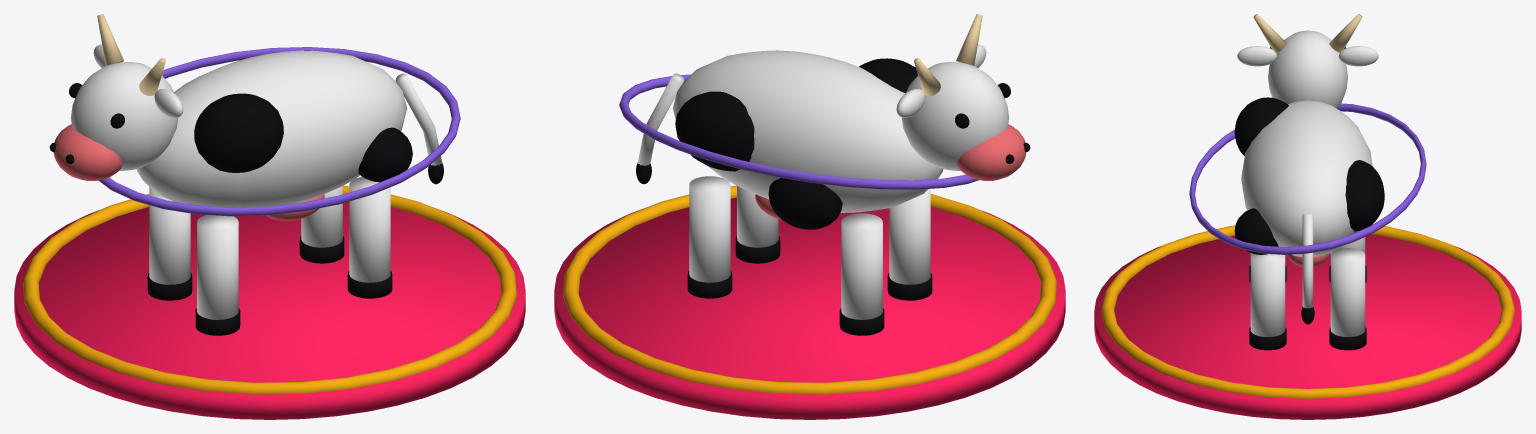
File: PolkaSpinCow.fbx
The picture shows the model from 3 angles, left to right: view 1: azimuth 30°, elevation 25°; view 2: azimuth 150°, elevation 25°; view 3: azimuth 270°, elevation 25°; orthographic projection. The views are drawn at different scales.
Parts seen in each view (by area): view 1: PolkaSpinCow; view 2: PolkaSpinCow; view 3: PolkaSpinCow.
Part boxes in pixels (<box>): PolkaSpinCow: <box>14,14,525,419</box>; PolkaSpinCow: <box>554,14,1065,419</box>; PolkaSpinCow: <box>1094,14,1521,419</box>.
Size of the model in its own units: 3.2 by 2.14 by 3.2.
Materials: 1 (1 with a texture image).
